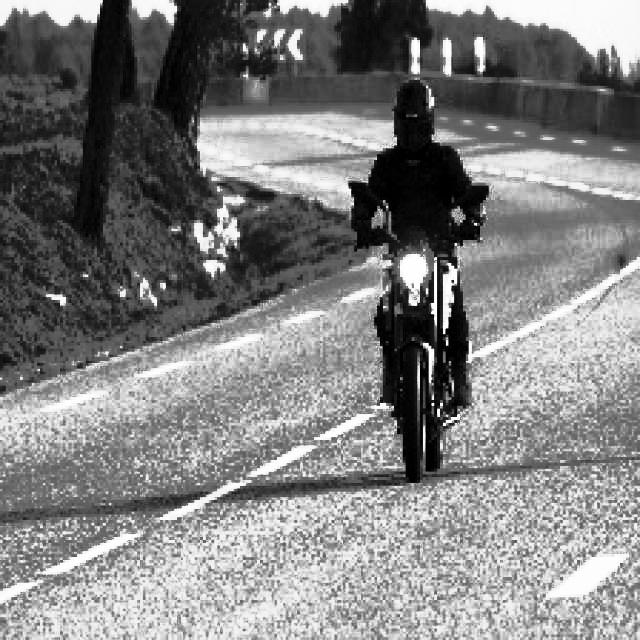Bike: (371, 222, 457, 478)
